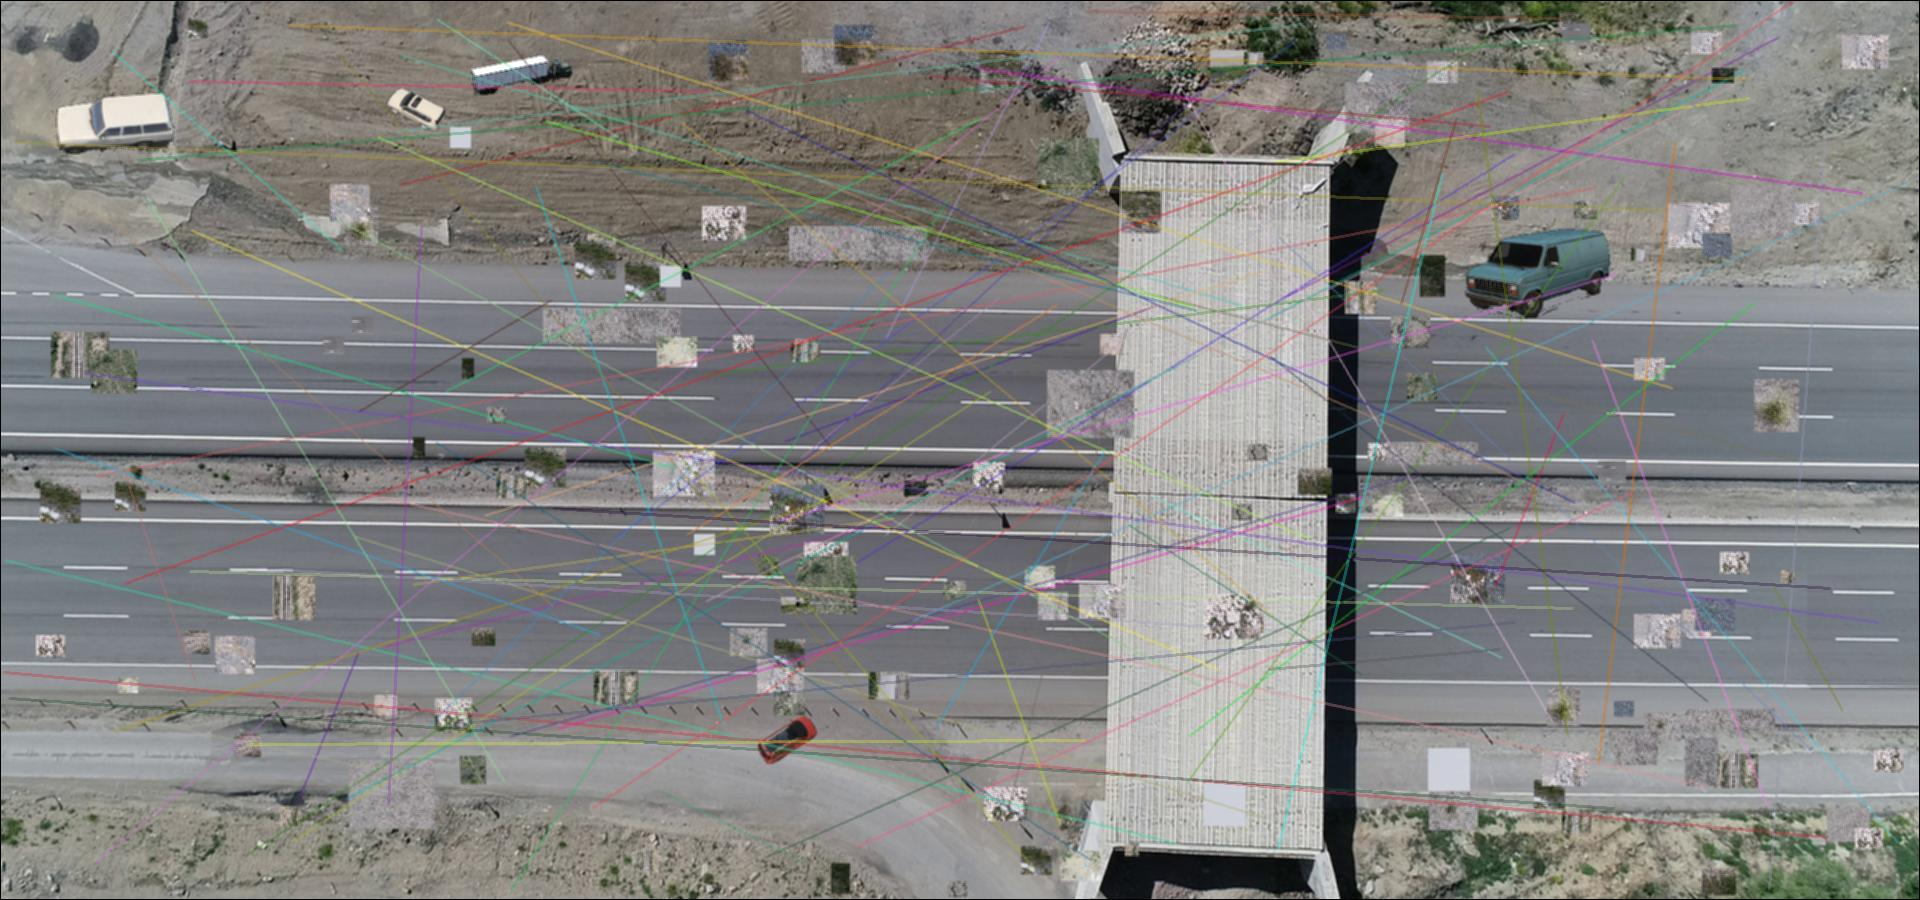arac: (1464, 223, 1610, 320), (53, 93, 176, 156), (469, 54, 574, 96), (758, 715, 818, 765), (384, 84, 447, 131)
